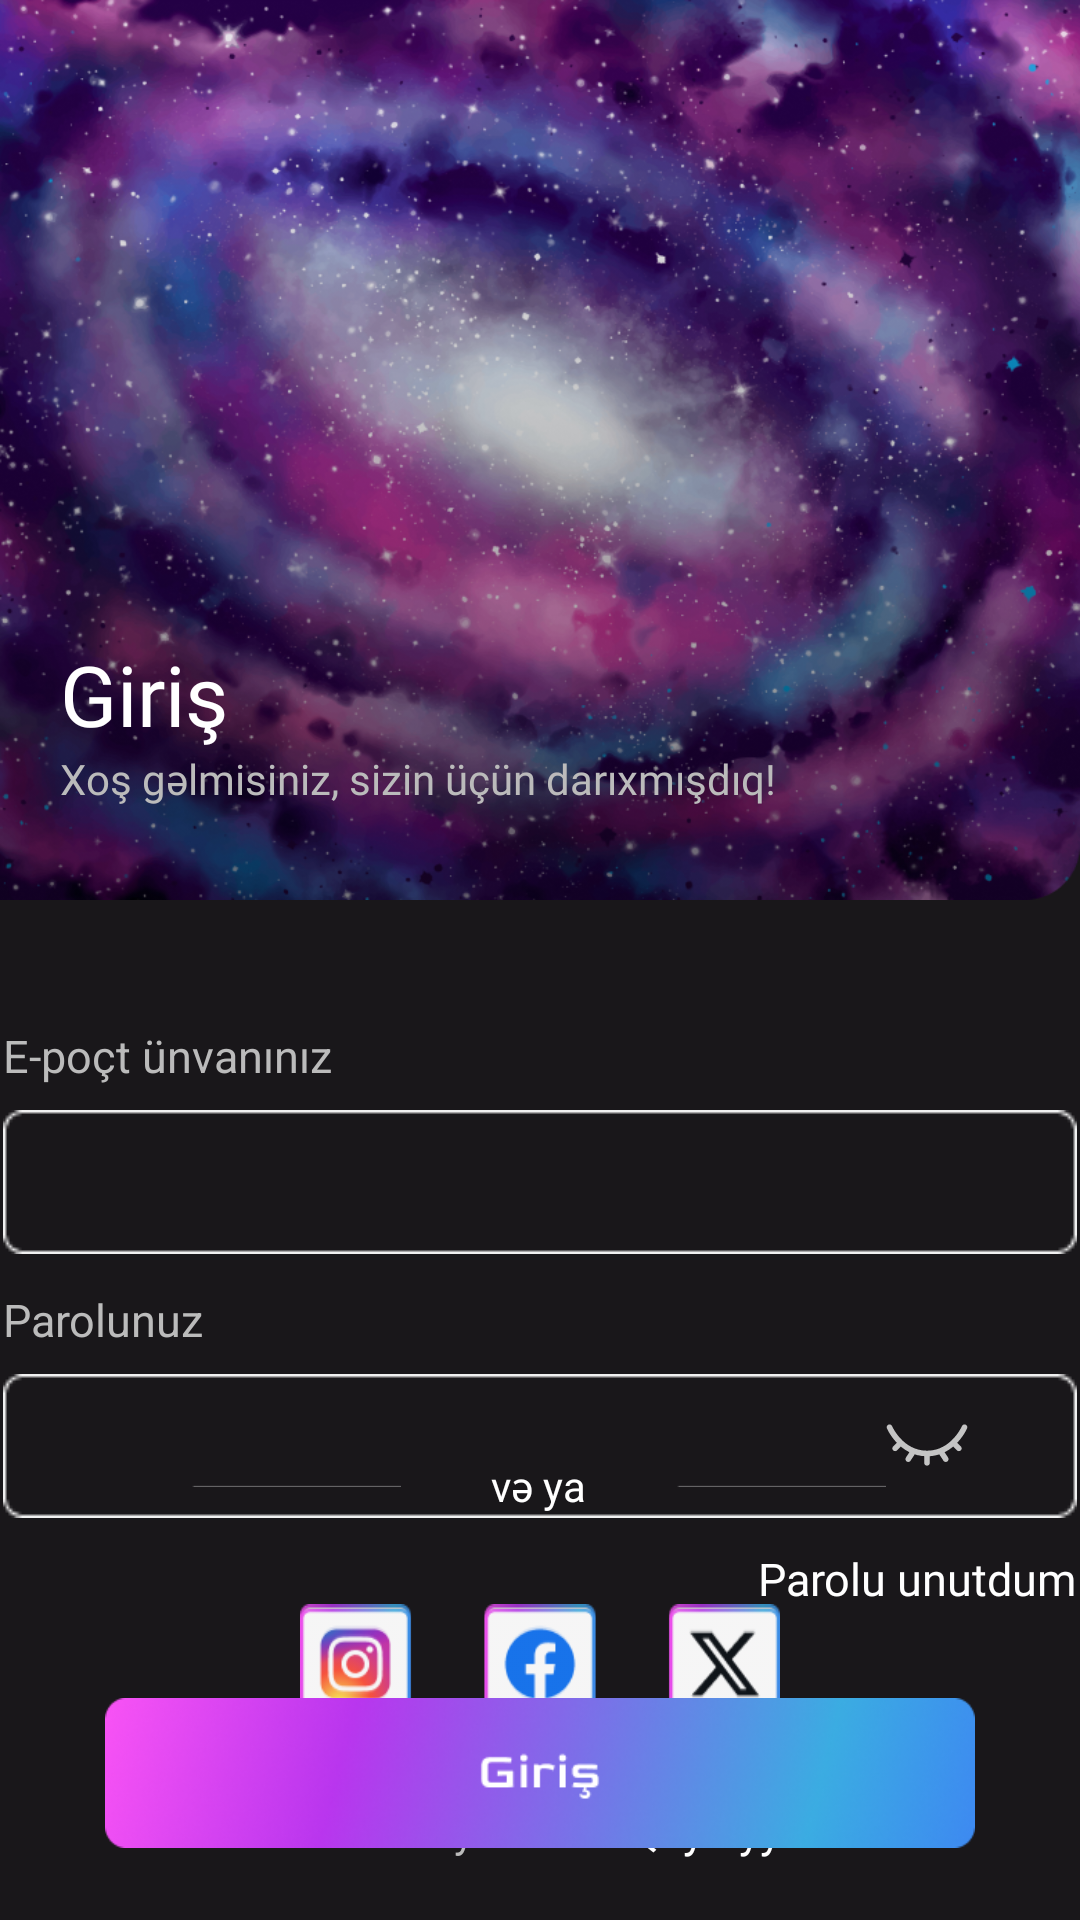

Screen size 1080px×1920px. Icon name, then its center in pixels as point (x, y):
hide password: point (927, 1445)
